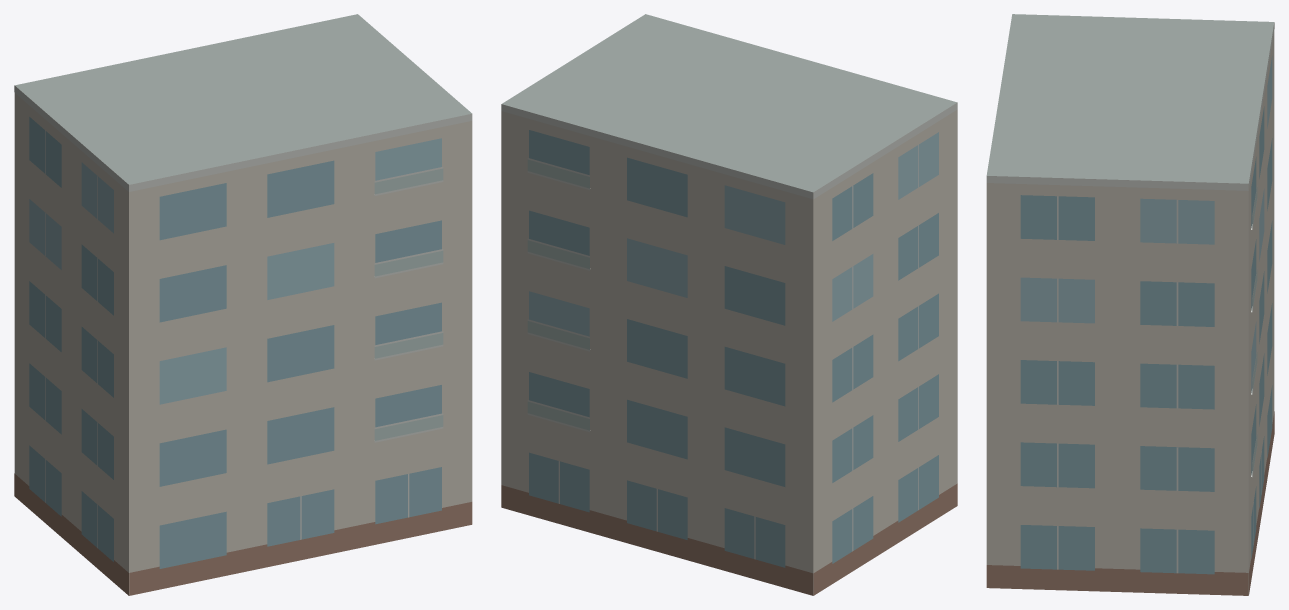
Rendered from survey-upis-32940957.glb.
The picture shows the model from 3 angles, left to right: view 1: azimuth 30°, elevation 25°; view 2: azimuth 150°, elevation 25°; view 3: azimuth 270°, elevation 25°; orthographic projection. The views are drawn at different scales.
Visible parts, largest first — view 1: survey-upis-32940957.tmp; view 2: survey-upis-32940957.tmp; view 3: survey-upis-32940957.tmp.
Boxes of the visible parts, x1,y1,x2,y2 form: survey-upis-32940957.tmp: [14, 14, 472, 595]; survey-upis-32940957.tmp: [501, 14, 957, 595]; survey-upis-32940957.tmp: [986, 14, 1274, 595].
Bounding box in the file's own units: 12.46 × 14.1 × 8.93.
